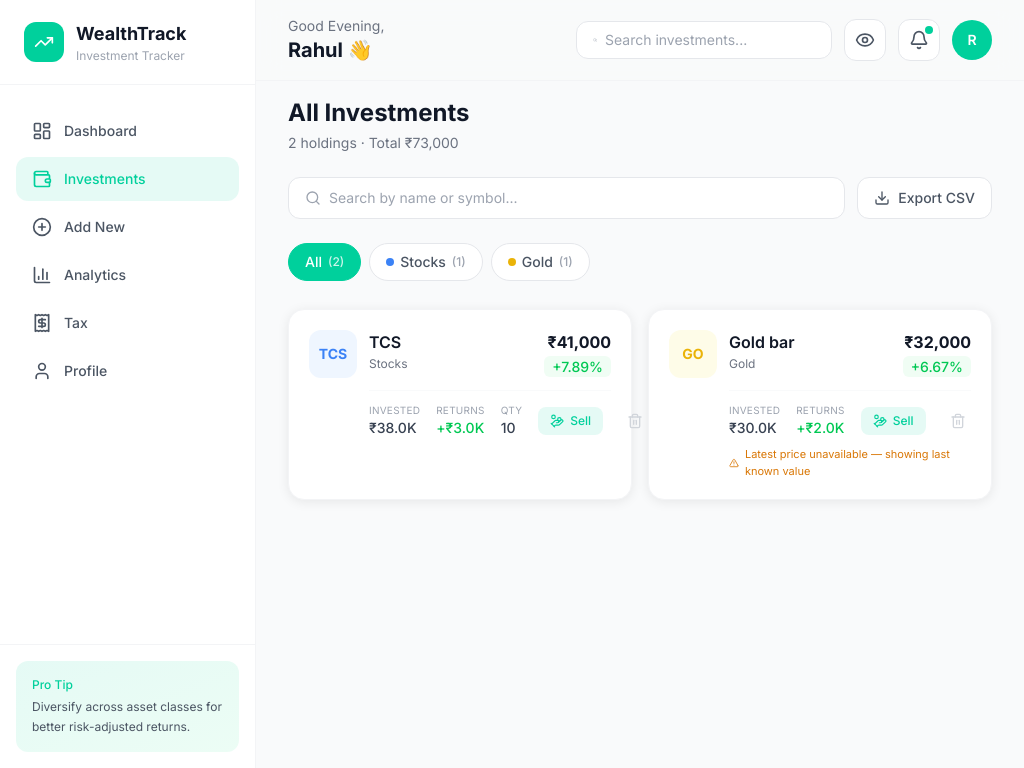
Scenario: investments › lists holdings, flags stale prices, and deletes via the API
The image size is (1024, 768).
Expected: the heading "TCS" is shown, [369, 332, 401, 352]
Expected: the text "Latest price unavailable — showing last known value" is shown, [729, 446, 971, 479]
Click the button named "Remove TCS". click: (635, 420)
box: [619, 404, 651, 436]
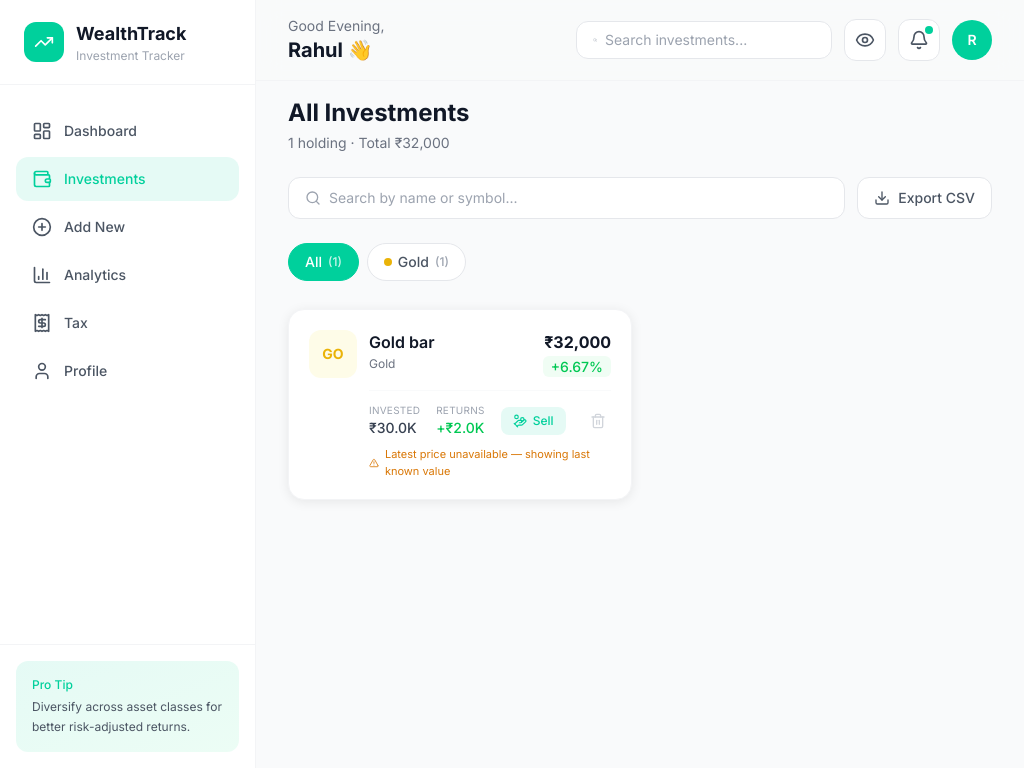
Now the text "TCS" is gone
